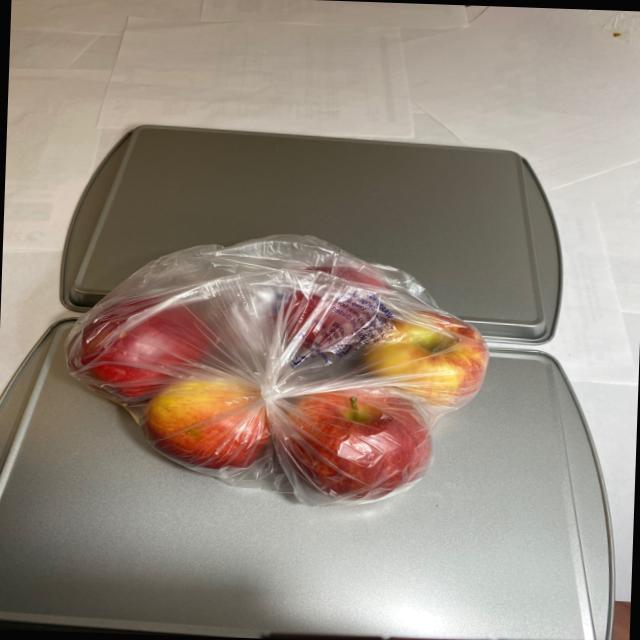apple: (63, 247, 492, 513)
